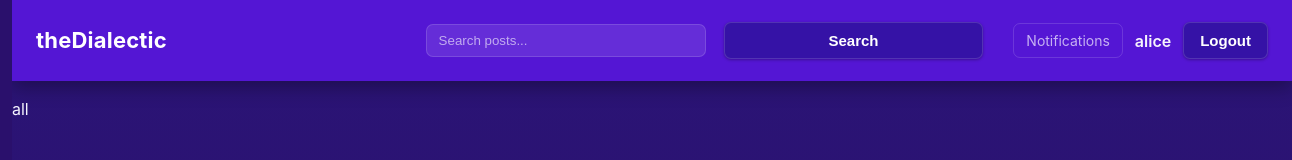
Scenario: Topbar › logging out clears the displayed username
The width and height of the screenshot is (1292, 160).
Expected: the text "alice" is shown, [1135,28,1171,52]
Step 1. Click the button "Logout" → (1226, 40), box [1183,22,1268,59]
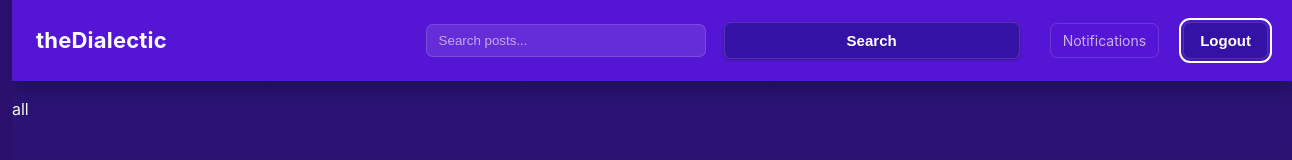
Expected: the text "alice" is gone
